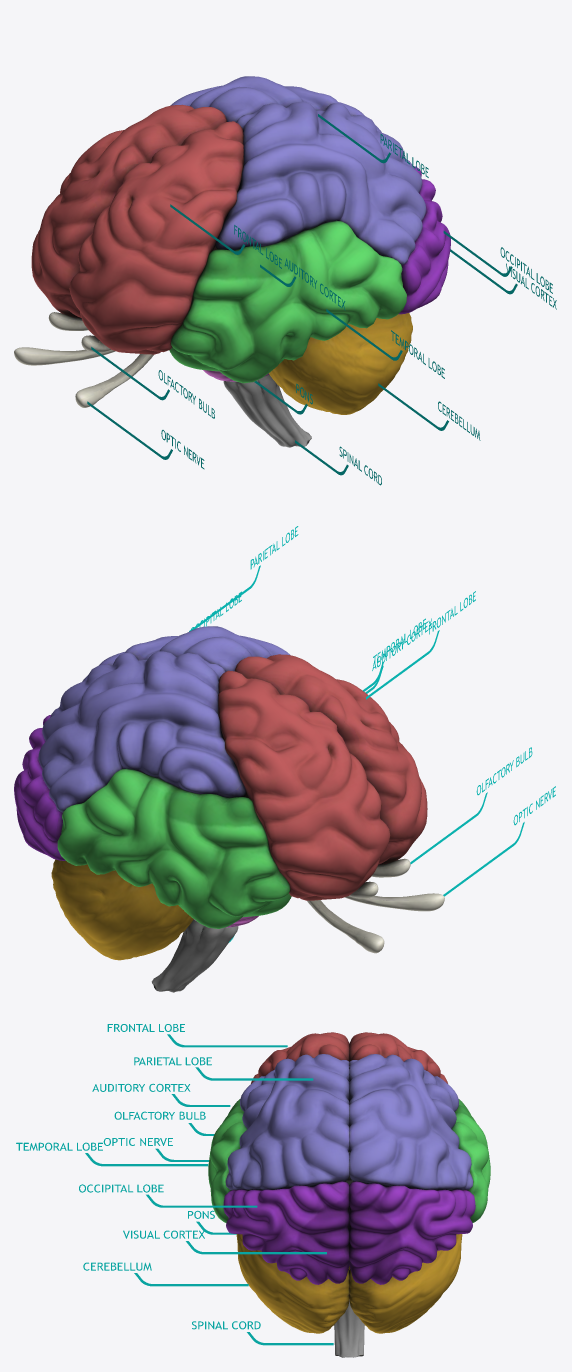
The model's file is brain.glb.
The picture shows the model from 3 angles, top to bottom: view 1: azimuth 30°, elevation 25°; view 2: azimuth 150°, elevation 25°; view 3: azimuth 270°, elevation 25°; orthographic projection. The views are drawn at different scales.
Visible parts, largest first — view 1: Frontal, Parietal, Temporal, Cerebellum, brainstem_Nerves, Labels, Occipital; view 2: Frontal, Parietal, Temporal, Cerebellum, brainstem_Nerves, Occipital, Labels; view 3: Parietal, Occipital, Cerebellum, Labels, Temporal, Frontal, brainstem_Nerves.
Boxes of the visible parts, x1,y1,x2,y2 form: Frontal: [31, 104, 243, 354]; Parietal: [170, 76, 426, 265]; Temporal: [169, 220, 406, 383]; Cerebellum: [269, 313, 412, 414]; brainstem_Nerves: [14, 312, 311, 447]; Labels: [87, 114, 556, 485]; Occipital: [398, 166, 450, 314]; Frontal: [218, 654, 427, 900]; Parietal: [38, 626, 290, 812]; Temporal: [57, 768, 291, 928]; Cerebellum: [51, 859, 193, 960]; brainstem_Nerves: [151, 858, 444, 992]; Occipital: [14, 715, 65, 860]; Labels: [189, 526, 555, 942]; Parietal: [225, 1054, 473, 1190]; Occipital: [223, 1181, 475, 1284]; Cerebellum: [236, 1234, 462, 1333]; Labels: [16, 1024, 333, 1345]; Temporal: [208, 1099, 490, 1222]; Frontal: [251, 1032, 447, 1083]; brainstem_Nerves: [334, 1151, 364, 1357].
Bounding box in the file's own units: 1.43 × 1.38 × 2.24.
Materials: 2 (2 with a texture image).
